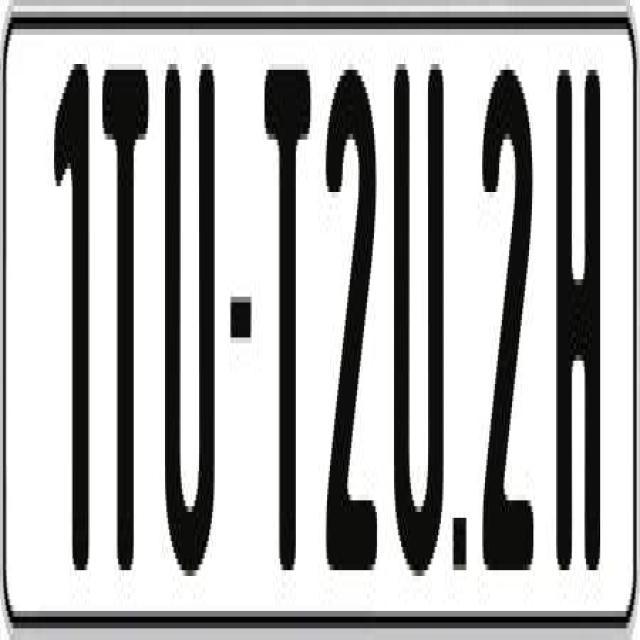1: (54, 64, 90, 582)
2: (324, 58, 380, 570), (481, 70, 532, 570)
H: (554, 64, 598, 588)
T: (99, 70, 148, 606), (264, 58, 314, 570)
U: (164, 52, 219, 576), (394, 46, 445, 594)
